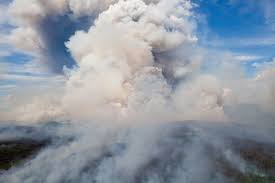smoke: (67, 38, 247, 183)
